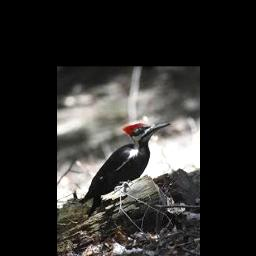Woodpecker: (79, 121, 170, 214)
